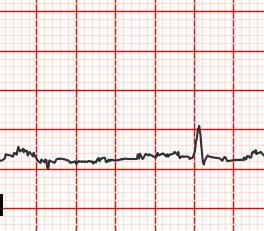Poor R Progression: (190, 123, 206, 159)
